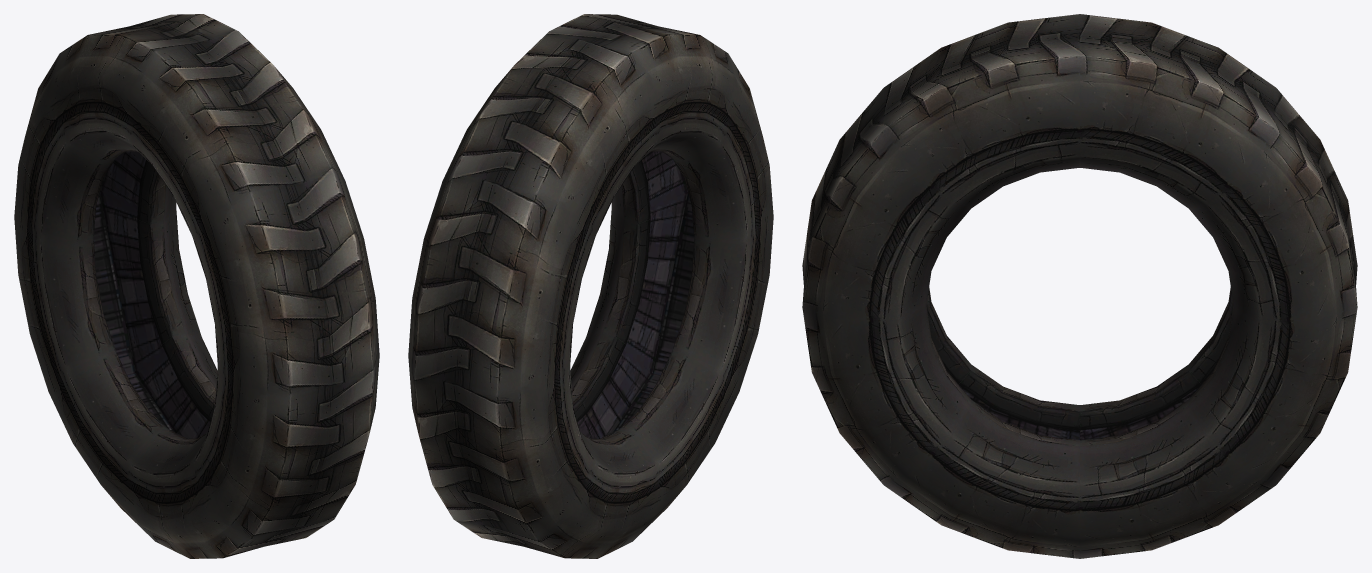
Rendered from Tire.FBX.
3 renders of one model, left to right at view 1: azimuth 30°, elevation 25°; view 2: azimuth 150°, elevation 25°; view 3: azimuth 270°, elevation 25°, orthographic. The views are drawn at different scales.
Visible parts, largest first — view 1: Tire; view 2: Tire; view 3: Tire.
Boxes of the visible parts, bbox=[...] form: Tire: bbox=[14, 14, 379, 558]; Tire: bbox=[408, 14, 773, 558]; Tire: bbox=[802, 14, 1357, 558].
Size of the model in its own units: 188 by 655 by 655.
